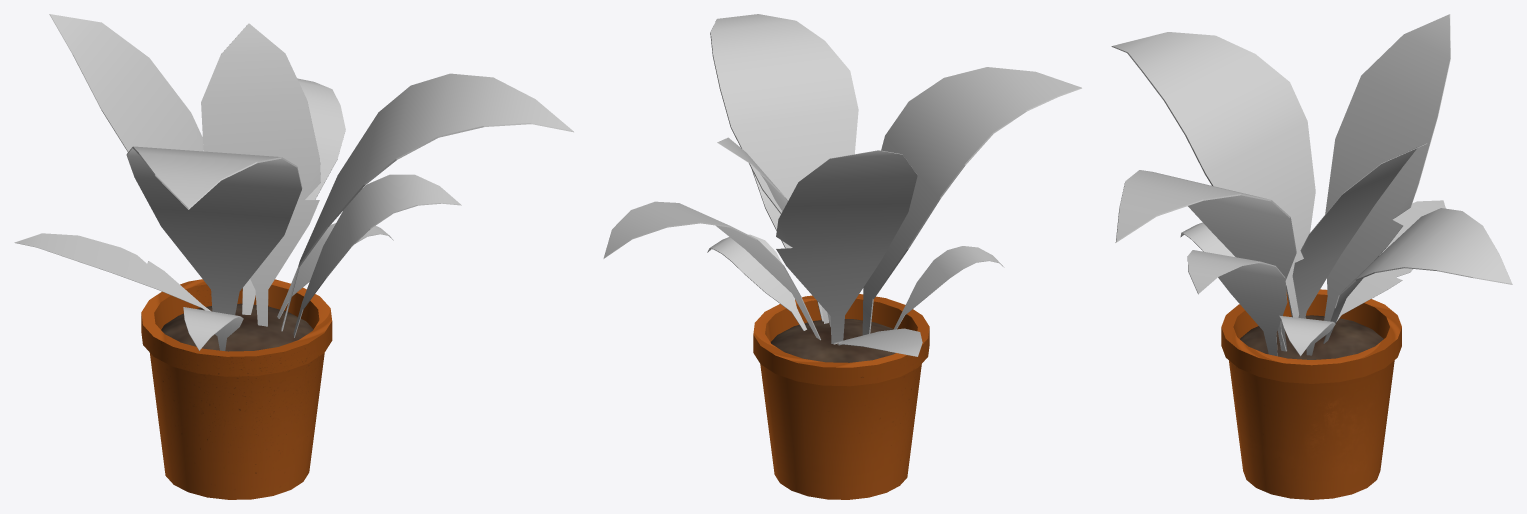
The model's file is Plant_2.fbx.
The picture shows the model from 3 angles, left to right: view 1: azimuth 30°, elevation 25°; view 2: azimuth 150°, elevation 25°; view 3: azimuth 270°, elevation 25°; orthographic projection. The views are drawn at different scales.
Parts seen in each view (by area): view 1: flower_pot, leaf_5, leaf_8, leaf_4, leaf_7, leaf_1, leaf_6, dirt_in_pot, leaf_3, leaf_2, leaf_9; view 2: flower_pot, leaf_4, leaf_7, leaf_5, leaf_3, dirt_in_pot, leaf_2, leaf_9, leaf_6, leaf_8; view 3: flower_pot, leaf_5, leaf_7, leaf_4, leaf_3, leaf_8, leaf_1, dirt_in_pot, leaf_6, leaf_9, leaf_2.
Boxes of the visible parts, x1=… form: flower_pot: x1=141, y1=279, x2=332, y2=499; leaf_5: x1=126, y1=146, x2=302, y2=315; leaf_8: x1=201, y1=23, x2=320, y2=326; leaf_4: x1=281, y1=73, x2=573, y2=331; leaf_7: x1=49, y1=14, x2=203, y2=151; leaf_1: x1=293, y1=174, x2=461, y2=337; leaf_6: x1=14, y1=233, x2=210, y2=311; dirt_in_pot: x1=161, y1=303, x2=313, y2=351; leaf_3: x1=242, y1=78, x2=345, y2=314; leaf_2: x1=183, y1=307, x2=243, y2=350; leaf_9: x1=277, y1=223, x2=393, y2=318; flower_pot: x1=753, y1=294, x2=929, y2=499; leaf_4: x1=710, y1=14, x2=858, y2=323; leaf_7: x1=776, y1=150, x2=917, y2=343; leaf_5: x1=862, y1=67, x2=1081, y2=335; leaf_3: x1=603, y1=201, x2=820, y2=340; dirt_in_pot: x1=770, y1=319, x2=895, y2=362; leaf_2: x1=893, y1=246, x2=1004, y2=329; leaf_9: x1=707, y1=234, x2=806, y2=330; leaf_6: x1=833, y1=328, x2=922, y2=356; leaf_8: x1=717, y1=137, x2=830, y2=326; flower_pot: x1=1221, y1=289, x2=1401, y2=499; leaf_5: x1=1111, y1=32, x2=1315, y2=318; leaf_7: x1=1324, y1=14, x2=1450, y2=321; leaf_4: x1=1115, y1=170, x2=1296, y2=351; leaf_3: x1=1323, y1=208, x2=1512, y2=343; leaf_8: x1=1292, y1=143, x2=1426, y2=318; leaf_1: x1=1187, y1=250, x2=1287, y2=356; dirt_in_pot: x1=1240, y1=315, x2=1383, y2=359; leaf_6: x1=1336, y1=200, x2=1445, y2=322; leaf_9: x1=1279, y1=315, x2=1335, y2=356; leaf_2: x1=1180, y1=222, x2=1235, y2=257.
Bounding box in the file's own units: 147 × 154 × 138.
